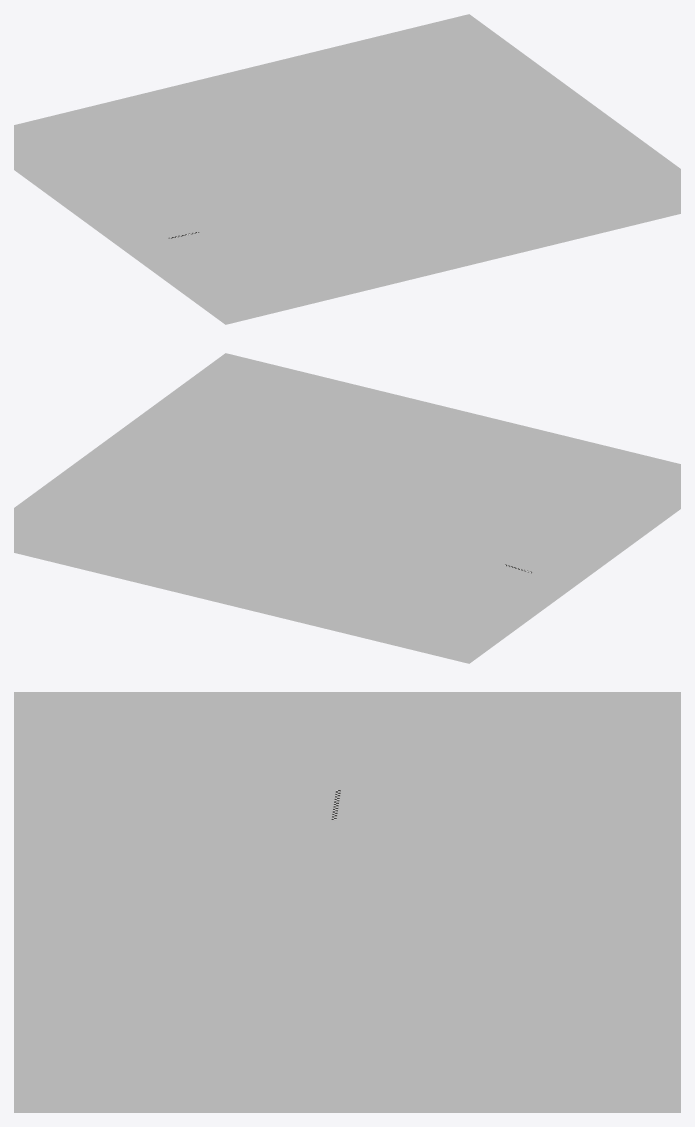
File: reInvent2019_track_cw.dae
3 views of the same model, one above another, from view 1: azimuth 30°, elevation 25°; view 2: azimuth 150°, elevation 25°; view 3: azimuth 270°, elevation 25° (orthographic). The views are drawn at different scales.
Parts seen in each view (by area): view 1: wall, field, road, ol, il, cl; view 2: wall, field, road, ol, il, cl; view 3: field, wall, road, il, ol, cl.
Boxes of the visible parts, bbox=[...] form: wall: bbox=[14, 14, 680, 324]; field: bbox=[60, 59, 634, 279]; road: bbox=[146, 96, 520, 269]; ol: bbox=[190, 115, 475, 250]; il: bbox=[142, 94, 524, 271]; cl: bbox=[168, 105, 498, 260]; wall: bbox=[14, 353, 680, 663]; field: bbox=[60, 398, 634, 618]; road: bbox=[100, 458, 565, 595]; ol: bbox=[143, 477, 520, 575]; il: bbox=[97, 457, 568, 595]; cl: bbox=[120, 468, 543, 584]; field: bbox=[14, 762, 680, 1042]; wall: bbox=[14, 692, 680, 1112]; road: bbox=[79, 790, 615, 1042]; il: bbox=[73, 787, 621, 1042]; ol: bbox=[150, 820, 544, 1042]; cl: bbox=[114, 805, 581, 1041].
Size of the model in its own units: 10.63 by 8.56 by 1.
